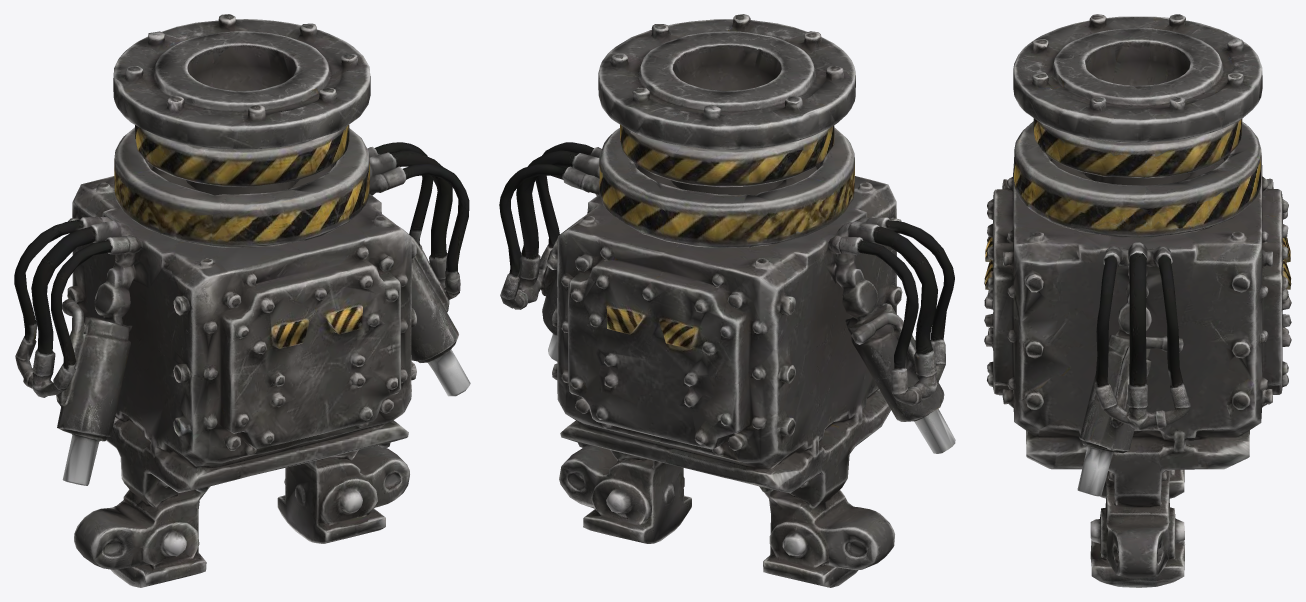
File: cuerpo.glb
The picture shows the model from 3 angles, left to right: view 1: azimuth 30°, elevation 25°; view 2: azimuth 150°, elevation 25°; view 3: azimuth 270°, elevation 25°; orthographic projection. The views are drawn at different scales.
Bounding box in the file's own units: 1.7 × 1.9 × 1.12.
Materials: 1 (1 with a texture image).
